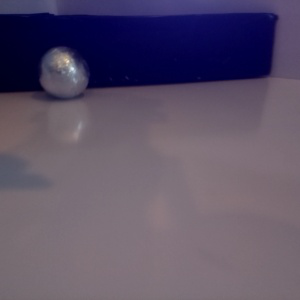zone: (1, 13, 278, 92)
